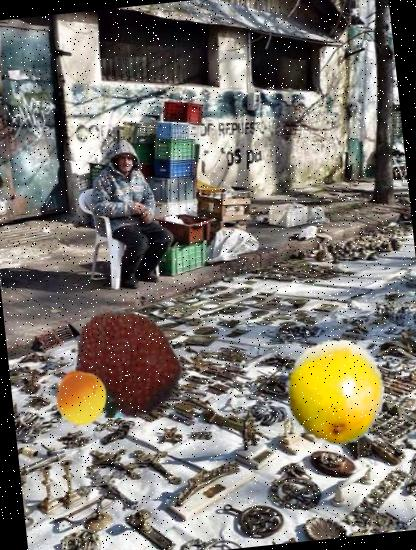Maracuja: (273, 334, 389, 450)
Peach: (50, 368, 112, 430)
Strawberry: (70, 306, 188, 424)
